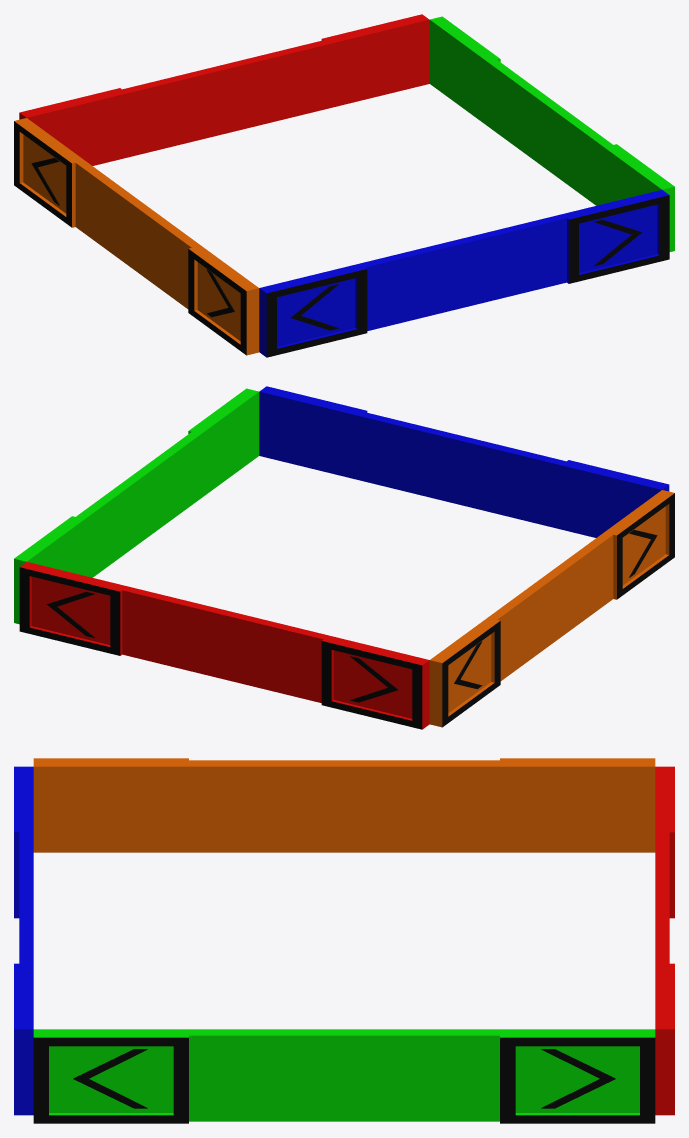
The model's file is FourColorSquare.fbx.
3 renders of one model, top to bottom at view 1: azimuth 30°, elevation 25°; view 2: azimuth 150°, elevation 25°; view 3: azimuth 270°, elevation 25°, orthographic. The views are drawn at different scales.
Parts seen in each view (by area): view 1: Cube; view 2: Cube; view 3: Cube.
Boxes of the visible parts, left/top/right/bottom form: Cube: left=14, top=14, right=674, bottom=357; Cube: left=14, top=386, right=674, bottom=729; Cube: left=14, top=758, right=674, bottom=1123.
Size of the model in its own units: 512 by 73.5 by 512.
